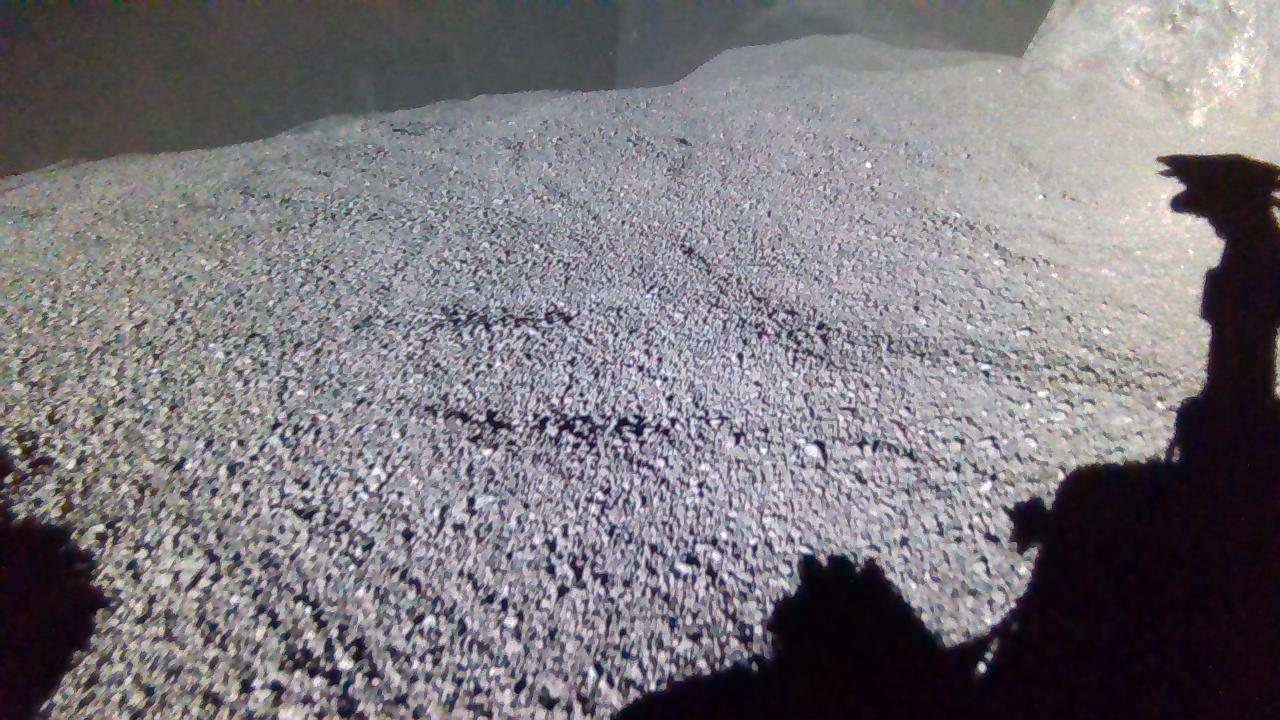rock: (1014, 0, 1279, 149)
